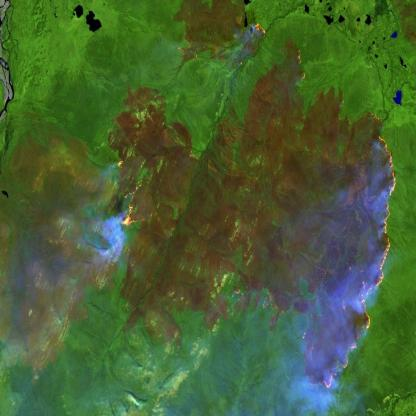fire: (296, 124, 400, 398), (107, 154, 150, 235), (245, 12, 269, 51)
